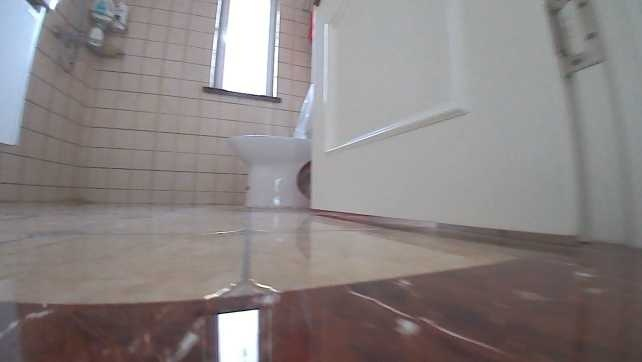door_anno: (309, 0, 639, 245)
toilet: (228, 81, 314, 211)
